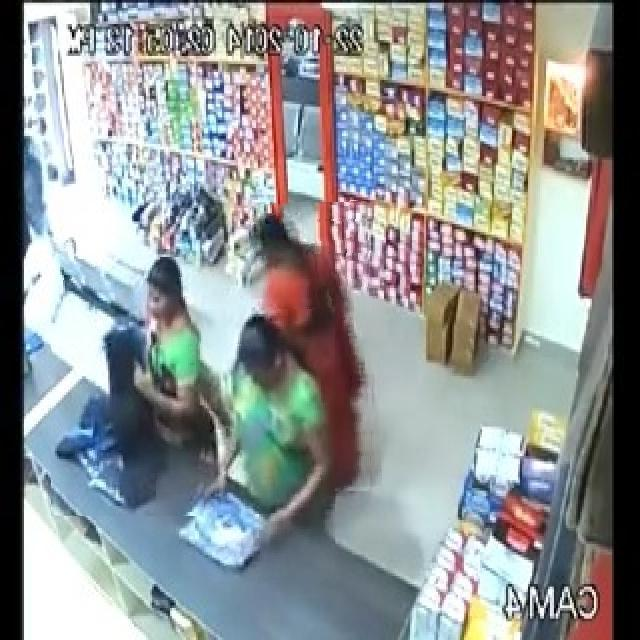normal: (172, 309, 335, 583), (51, 243, 208, 517), (251, 202, 378, 491)
